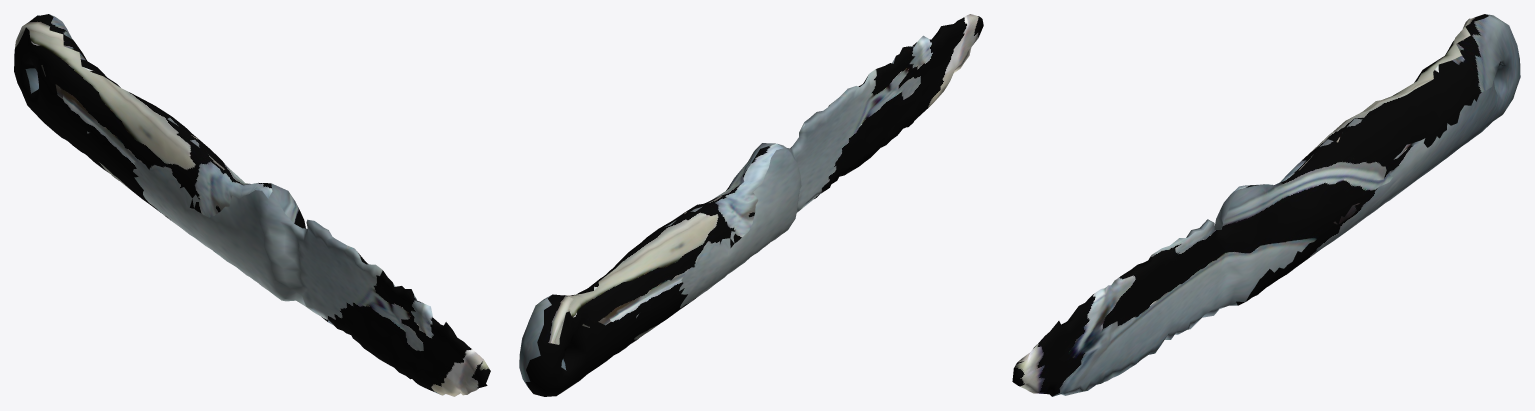
Rendered from scan_align.obj.
The picture shows the model from 3 angles, left to right: view 1: azimuth 30°, elevation 25°; view 2: azimuth 150°, elevation 25°; view 3: azimuth 330°, elevation 25°; orthographic projection. The views are drawn at different scales.
Bounding box in the file's own units: 0.0128 × 0.0252 × 0.2037.
